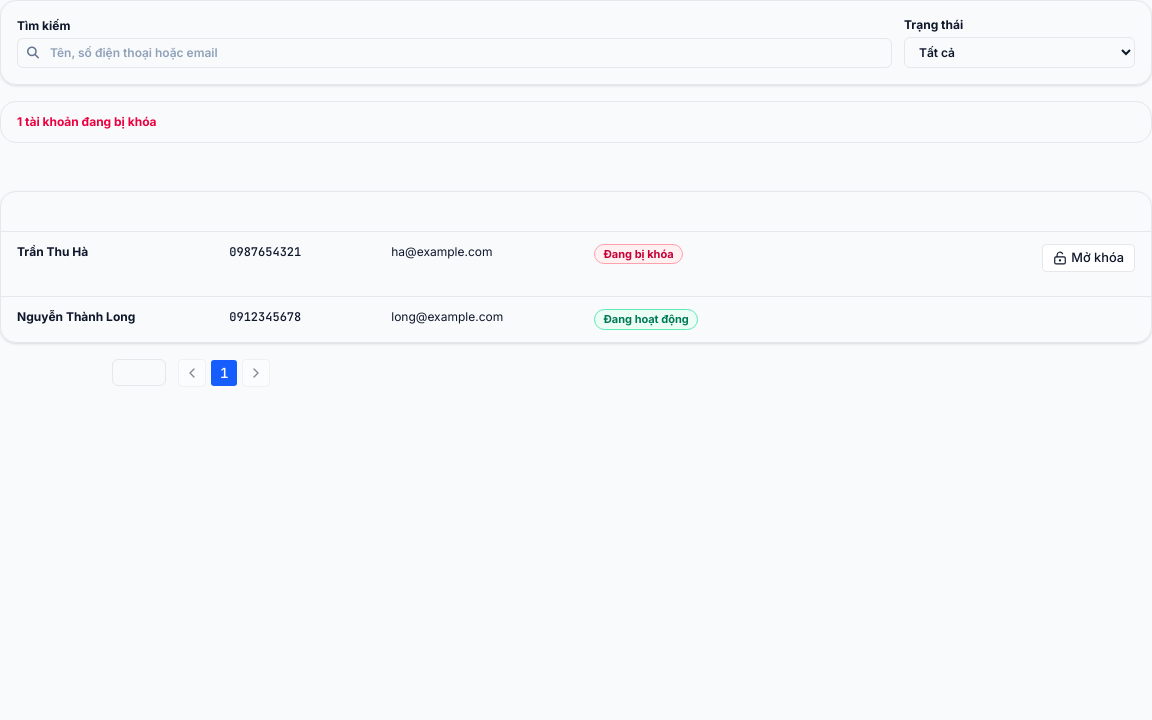
Test: CustomersPanel: Admin tra cứu và mở khóa tài khoản khách › BE từ chối (đã tự mở) thì hiện câu lỗi trong hộp thoại
Click the button with aria-label "Mở khóa tài khoản Trần Thu Hà" at (1089,258), box [1042,244,1135,272]
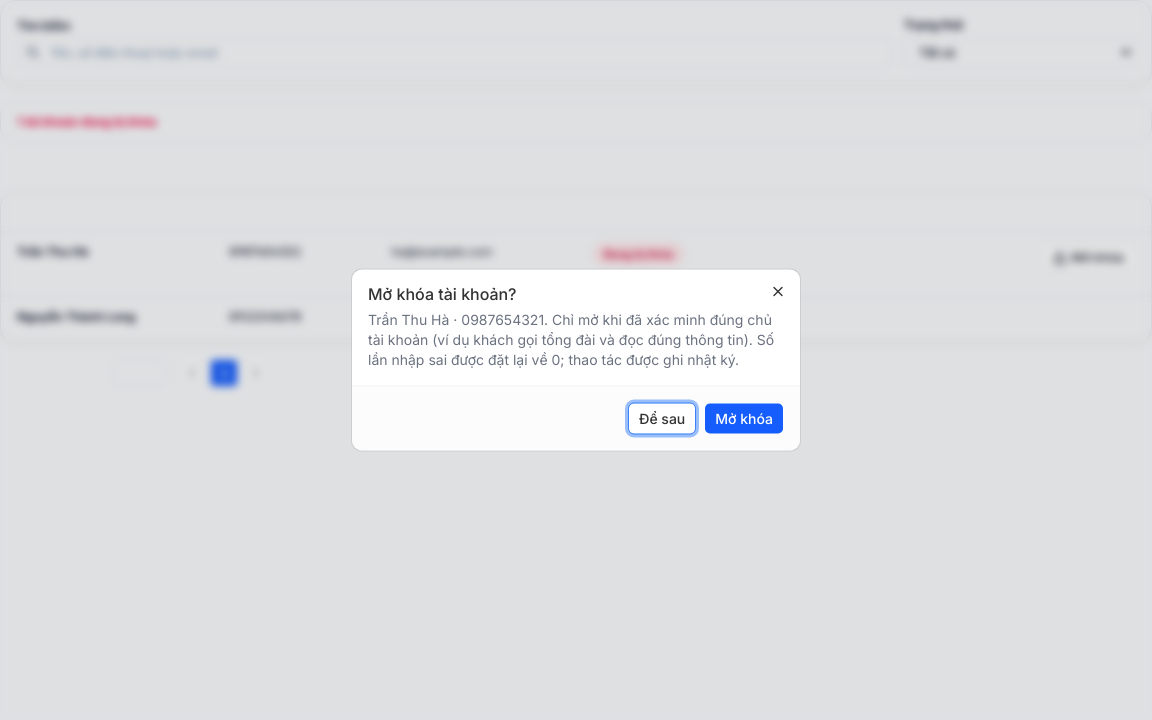
Click the button "Mở khóa" at (744,418), box [704,402,784,434]
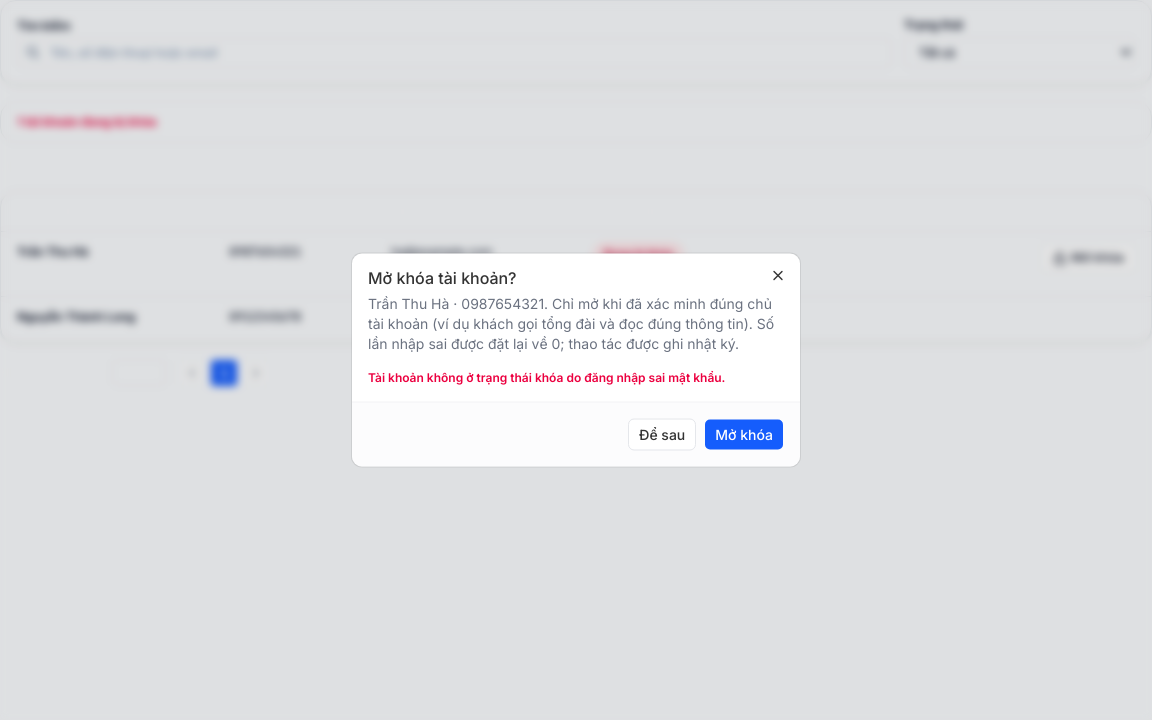
Check: the message shows "Tài khoản không ở trạng thái khóa", box [368,370,726,384]
